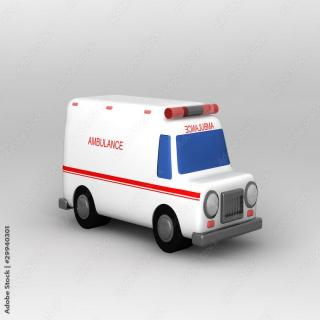Ambulance: (45, 77, 284, 261)
